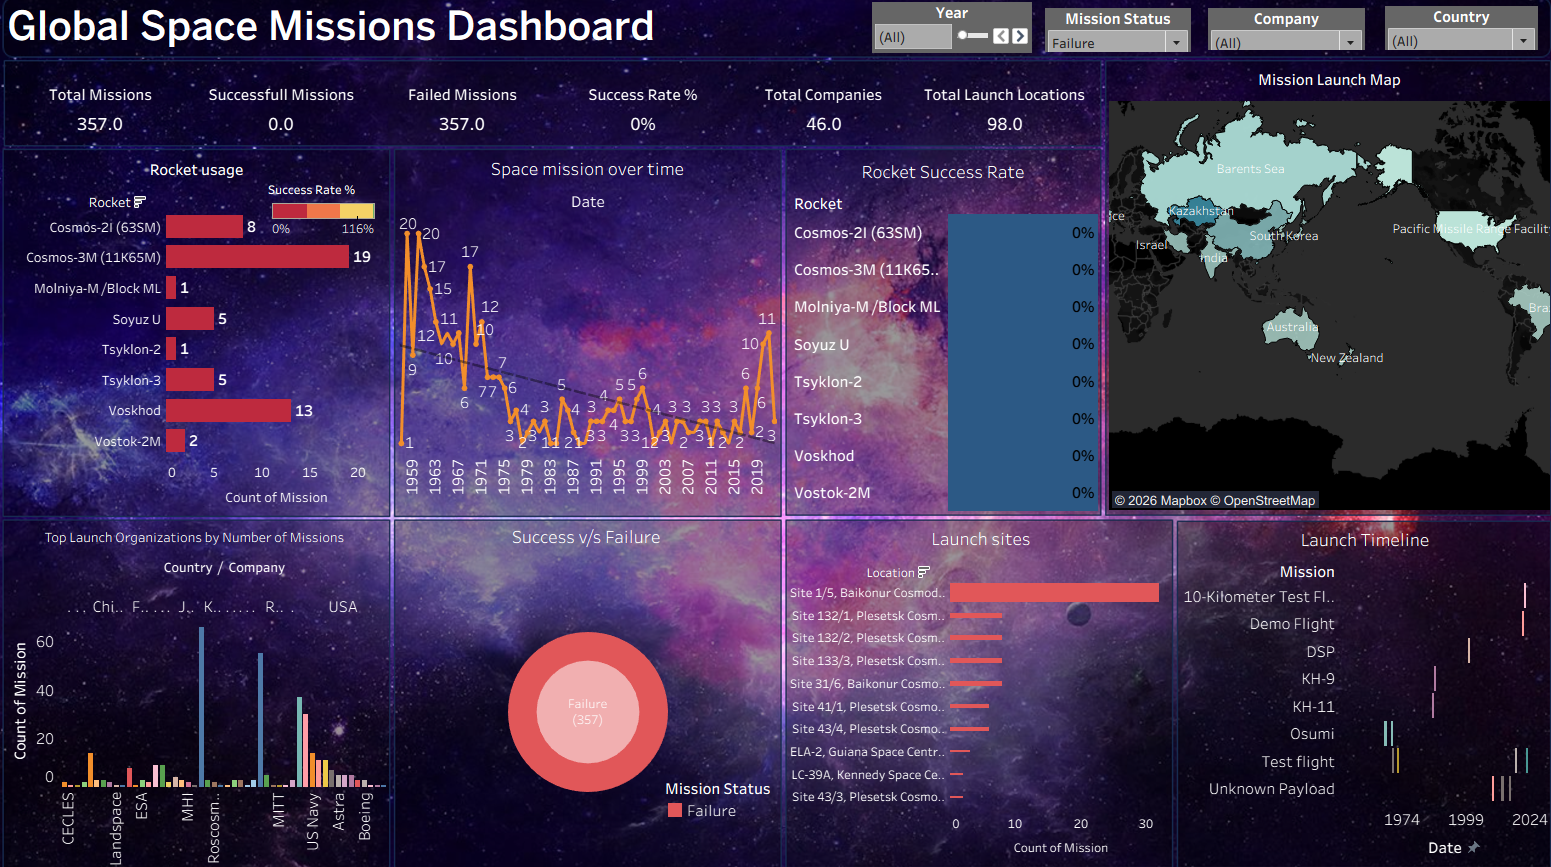

The dashboard page shown, as its layout file describes it:
{"tool":"tableau","page":{"name":"Space mission dashboard","canvas":[1580,900],"ordinal":0},"visuals":[{"type":"image","param":"Image/space background.png","box":[8,8,1564,884]},{"type":"filter","title":"Filters","param":"[federated.16n310l1mkbzr01efwcor0iu8qdv].[yr:Date:ok]","box":[885,17,160,51]},{"type":"text","box":[17,21,664,41]},{"type":"filter","title":"Filters","param":"[federated.16n310l1mkbzr01efwcor0iu8qdv].[none:Calculation_0682570195472391:nk]","box":[1398,21,153,44]},{"type":"filter","title":"Filters","param":"[federated.16n310l1mkbzr01efwcor0iu8qdv].[none:MissionStatus:nk]","box":[1058,23,146,44]},{"type":"filter","title":"Filters","param":"[federated.16n310l1mkbzr01efwcor0iu8qdv].[none:Company:nk]","box":[1221,23,157,42]},{"type":"worksheet","title":"KPI Cards","mark":"Text","box":[23,80,1085,77]},{"type":"worksheet","title":"Mission Launch Map","mark":"Automatic","box":[1122,80,441,445]},{"type":"worksheet","title":"Space mission over time","mark":"Automatic","rows":["Mission"],"cols":["Date"],"box":[411,167,379,362]},{"type":"worksheet","title":"Rocket usage","mark":"Automatic","rows":["Rocket"],"cols":["Mission"],"box":[19,170,381,358]},{"type":"worksheet","title":"Rocket Success Rate","mark":"Square","rows":["Rocket"],"box":[801,170,310,356]},{"type":"legend","title":"Rocket usage","param":"[federated.16n310l1mkbzr01efwcor0iu8qdv].[usr:Calculation_0682570191486979:qk]","box":[281,196,111,70]},{"type":"worksheet","title":"Success v/s Failure ","mark":"Pie","rows":["Calculation_0682570200645641","Calculation_0682570200645641"],"box":[411,535,380,345]},{"type":"worksheet","title":"Launch sites","mark":"Automatic","rows":["Location"],"cols":["Mission"],"box":[803,537,382,341]},{"type":"worksheet","title":"Launch Timeline","mark":"GanttBar","rows":["Mission"],"cols":["Date"],"box":[1193,538,370,342]},{"type":"worksheet","title":"Top Launch Organizations by Number of Missions","mark":"Automatic","rows":["Mission"],"cols":["Calculation_0682570195472391","Company"],"box":[15,539,385,343]},{"type":"worksheet","title":"Filters","mark":"Automatic","box":[482,587,64,38]},{"type":"legend","title":"Success v/s Failure ","param":"[federated.16n310l1mkbzr01efwcor0iu8qdv].[none:MissionStatus:nk]","box":[678,793,107,85]}]}

Visuals, with their boxes in screenshot pixels (x1, y1, x2, y2), scaled from the page's 1580x900 canvas onto the 1551x867 screenshot:
image: x1=8 y1=8 x2=1543 y2=859
"Filters" filter: x1=869 y1=16 x2=1026 y2=66
text: x1=17 y1=20 x2=669 y2=60
"Filters" filter: x1=1372 y1=20 x2=1523 y2=63
"Filters" filter: x1=1039 y1=22 x2=1182 y2=65
"Filters" filter: x1=1199 y1=22 x2=1353 y2=63
"KPI Cards" worksheet (Text marks): x1=23 y1=77 x2=1088 y2=151
"Mission Launch Map" worksheet: x1=1101 y1=77 x2=1534 y2=506
"Space mission over time" worksheet: x1=403 y1=161 x2=776 y2=510
"Rocket usage" worksheet: x1=19 y1=164 x2=393 y2=509
"Rocket Success Rate" worksheet (Square marks): x1=786 y1=164 x2=1091 y2=507
"Rocket usage" legend: x1=276 y1=189 x2=385 y2=256
"Success v/s Failure " worksheet (Pie marks): x1=403 y1=515 x2=776 y2=848
"Launch sites" worksheet: x1=788 y1=517 x2=1163 y2=846
"Launch Timeline" worksheet (GanttBar marks): x1=1171 y1=518 x2=1534 y2=848
"Top Launch Organizations by Number of Missions" worksheet: x1=15 y1=519 x2=393 y2=850
"Filters" worksheet: x1=473 y1=565 x2=536 y2=602
"Success v/s Failure " legend: x1=666 y1=764 x2=771 y2=846
